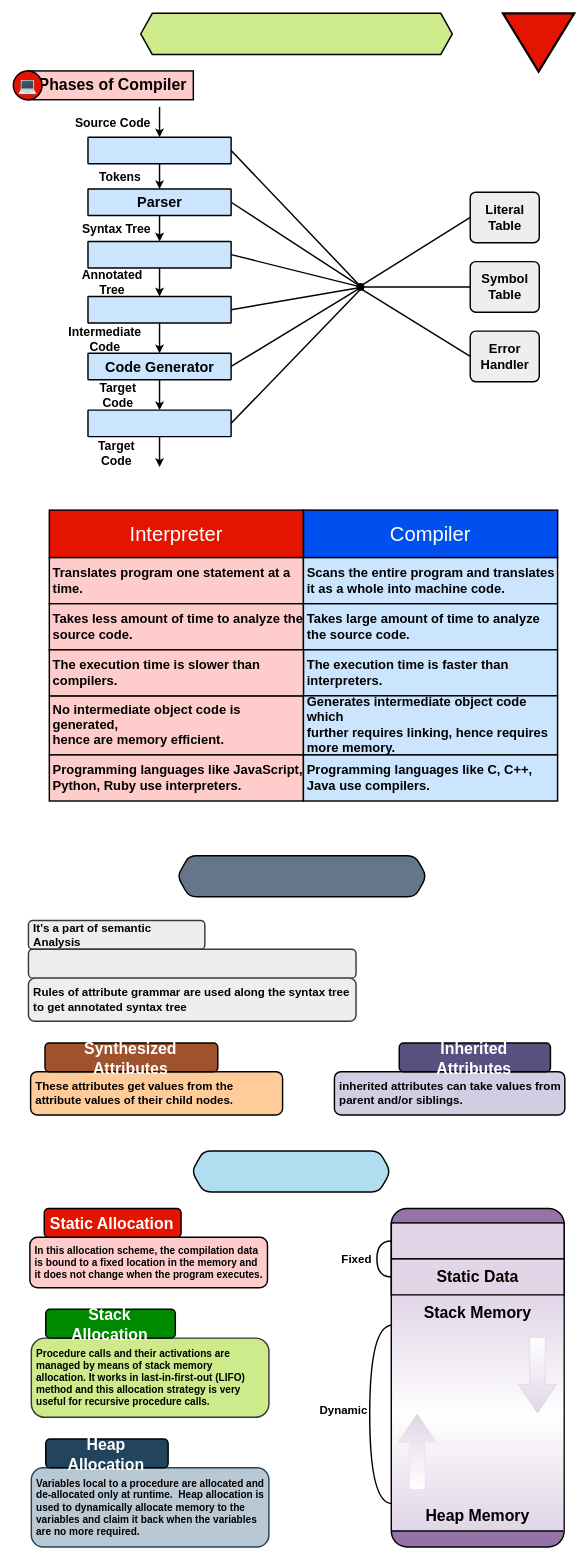
Some shapes in this 588 by 1560 pixel diagram are drawn without their labels. Here are the shapes that lost their labels. From the top down, the centre of each, then its label:
At (x=296, y=33): "Compilers Design & Theory Essay Only".
At (x=538, y=42): "حلل يا دويري".
At (x=159, y=150): "Scanner".
At (x=159, y=254): "Semantics Analyzer".
At (x=159, y=309): "Source Code Optimizer".
At (x=159, y=423): "Target Code Optimizer".
At (x=301, y=876): "Syntax Directed Translation (SDT)".
At (x=191, y=963): "Attribute grammar is concluded from context free grammar".
At (x=291, y=1171): "Static & Dynamic Binding".
At (x=477, y=1240): "Text Memory".
